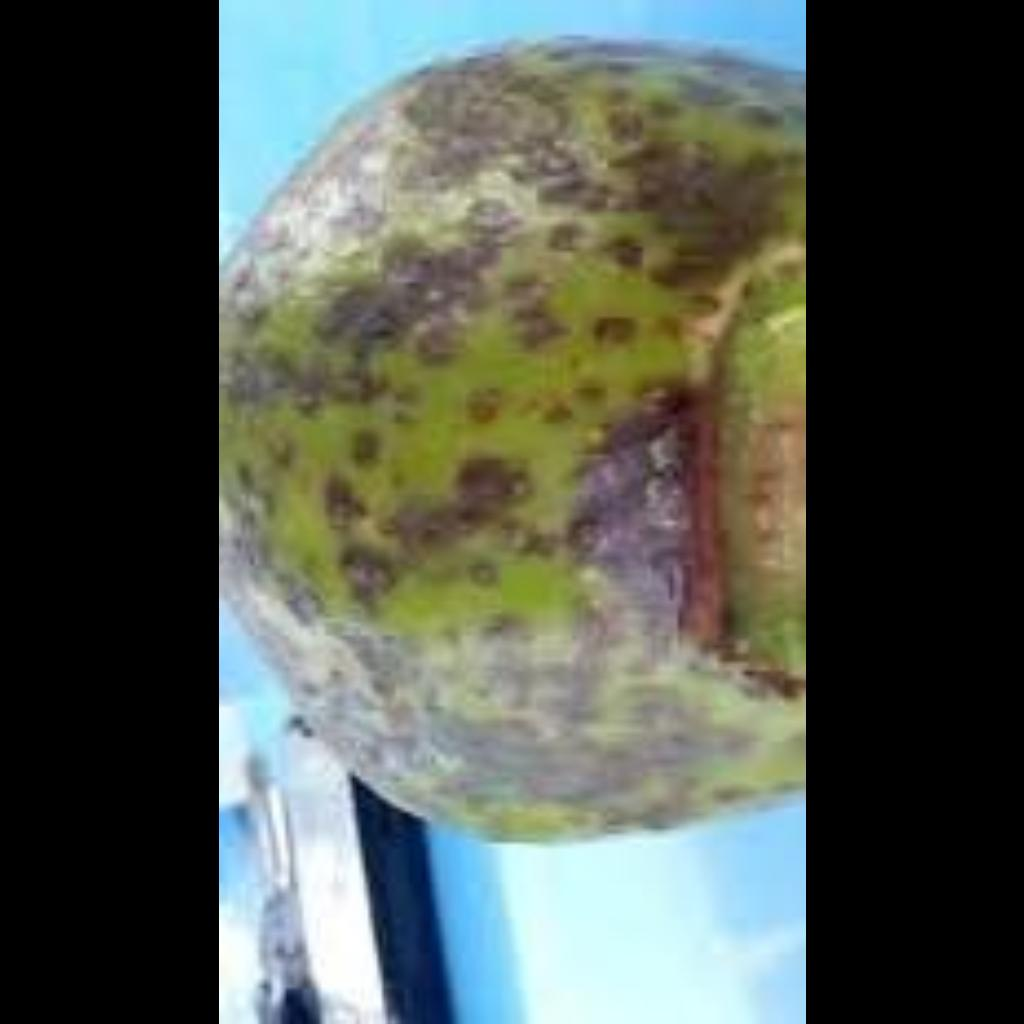antracnosis_fruto: (220, 57, 798, 799)
